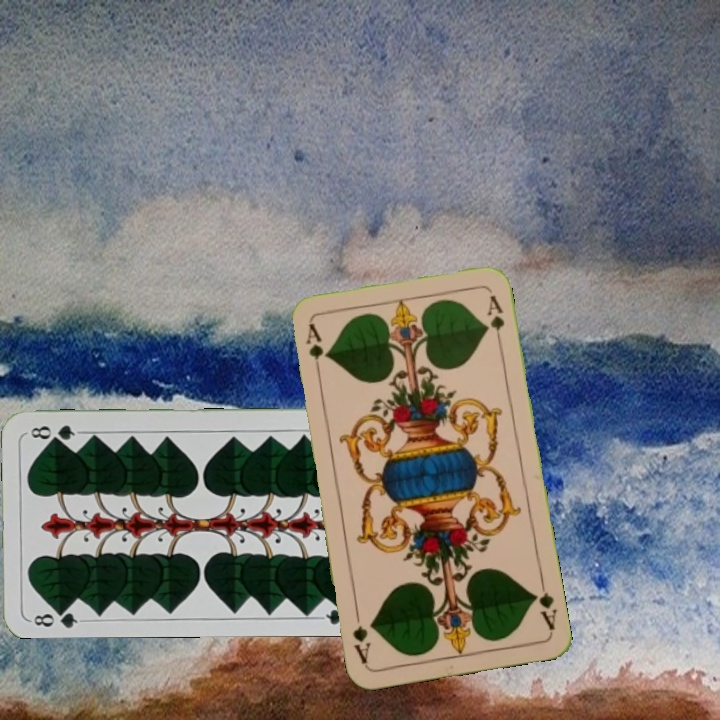G8: (27, 602, 86, 629)
GA: (529, 574, 559, 633), (301, 320, 326, 379)
